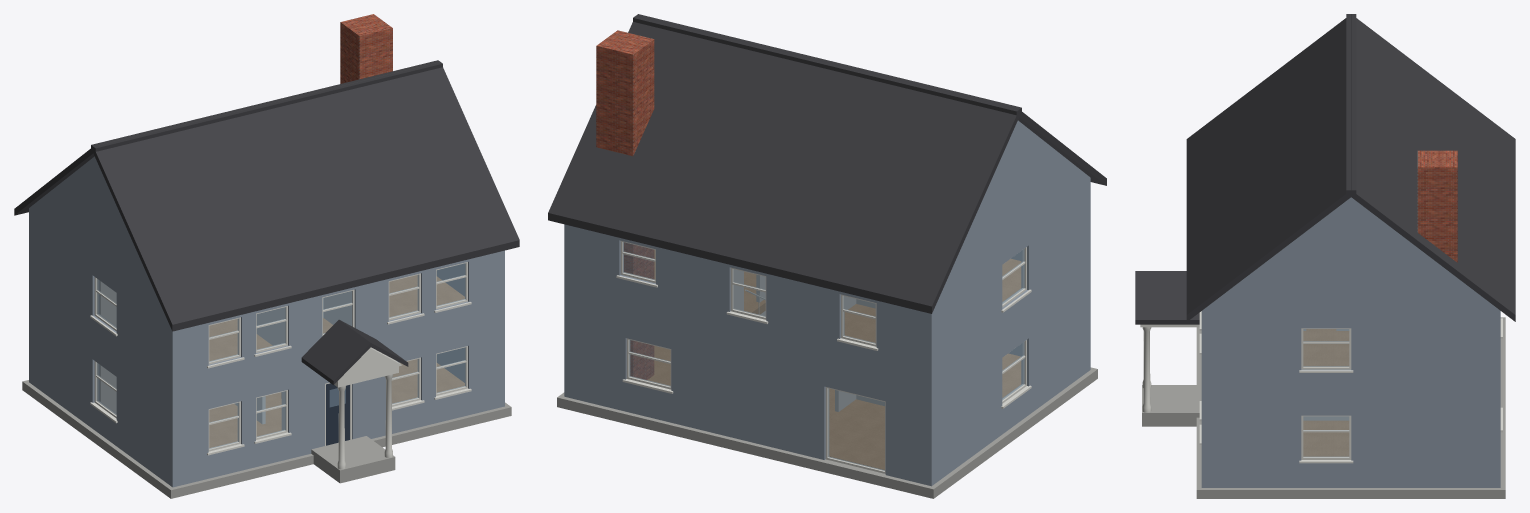
The model's file is colonial.glb.
3 renders of one model, left to right at view 1: azimuth 30°, elevation 25°; view 2: azimuth 150°, elevation 25°; view 3: azimuth 270°, elevation 25°, orthographic. The views are drawn at different scales.
Parts seen in each view (by area): view 1: Roof - Roof shingles, charcoal, Exterior walls - Siding, grey-blue, Glazing - Glazing (alpha-blended), Roof - Siding, grey-blue, Floors - Floor slabs, oak finish, Windows - Trim, windows and doors, white, Floors - Plinth and steps, concrete, Front porch and chimney - Brick (own procedural texture), Interior walls - Interior walls, white plaster, Front porch and chimney - Roof shingles, charcoal, Front porch and chimney - Plinth and steps, concrete, Front porch and chimney - Trim, windows and doors, white (+1 smaller); view 2: Roof - Roof shingles, charcoal, Exterior walls - Siding, grey-blue, Glazing - Glazing (alpha-blended), Roof - Siding, grey-blue, Front porch and chimney - Brick (own procedural texture), Floors - Plinth and steps, concrete, Floors - Floor slabs, oak finish, Windows - Trim, windows and doors, white, Interior walls - Interior walls, white plaster; view 3: Roof - Roof shingles, charcoal, Exterior walls - Siding, grey-blue, Roof - Siding, grey-blue, Floors - Plinth and steps, concrete, Front porch and chimney - Brick (own procedural texture), Glazing - Glazing (alpha-blended), Floors - Floor slabs, oak finish, Front porch and chimney - Roof shingles, charcoal, Front porch and chimney - Plinth and steps, concrete, Windows - Trim, windows and doors, white, Front porch and chimney - Trim, windows and doors, white.
Boxes of the visible parts, <box> form: Roof - Roof shingles, charcoal: <box>14,60,519,331</box>; Exterior walls - Siding, grey-blue: <box>29,208,504,487</box>; Glazing - Glazing (alpha-blended): <box>96,263,465,448</box>; Roof - Siding, grey-blue: <box>29,156,159,303</box>; Floors - Floor slabs, oak finish: <box>209,275,464,447</box>; Windows - Trim, windows and doors, white: <box>90,262,471,455</box>; Floors - Plinth and steps, concrete: <box>22,380,511,498</box>; Front porch and chimney - Brick (own procedural texture): <box>340,14,392,83</box>; Interior walls - Interior walls, white plaster: <box>100,281,350,429</box>; Front porch and chimney - Roof shingles, charcoal: <box>301,319,408,384</box>; Front porch and chimney - Plinth and steps, concrete: <box>311,436,395,483</box>; Front porch and chimney - Trim, windows and doors, white: <box>334,347,401,469</box>; Roof - Roof shingles, charcoal: <box>548,14,1106,313</box>; Exterior walls - Siding, grey-blue: <box>564,178,1090,486</box>; Glazing - Glazing (alpha-blended): <box>623,242,1024,470</box>; Roof - Siding, grey-blue: <box>945,120,1090,283</box>; Front porch and chimney - Brick (own procedural texture): <box>596,30,654,379</box>; Floors - Plinth and steps, concrete: <box>557,367,1097,498</box>; Floors - Floor slabs, oak finish: <box>648,250,1020,469</box>; Windows - Trim, windows and doors, white: <box>616,241,1031,473</box>; Interior walls - Interior walls, white plaster: <box>734,269,884,411</box>; Roof - Roof shingles, charcoal: <box>1186,14,1515,321</box>; Exterior walls - Siding, grey-blue: <box>1201,307,1500,487</box>; Roof - Siding, grey-blue: <box>1207,197,1494,306</box>; Floors - Plinth and steps, concrete: <box>1196,317,1505,498</box>; Front porch and chimney - Brick (own procedural texture): <box>1417,150,1457,262</box>; Glazing - Glazing (alpha-blended): <box>1303,329,1349,457</box>; Floors - Floor slabs, oak finish: <box>1303,329,1348,456</box>; Front porch and chimney - Roof shingles, charcoal: <box>1135,271,1199,324</box>; Front porch and chimney - Plinth and steps, concrete: <box>1142,385,1201,426</box>; Windows - Trim, windows and doors, white: <box>1199,311,1502,463</box>; Front porch and chimney - Trim, windows and doors, white: <box>1140,324,1199,412</box>.
Bounding box in the file's own units: 12.54 × 10.8 × 11.45.
10 materials, 3 textured.
